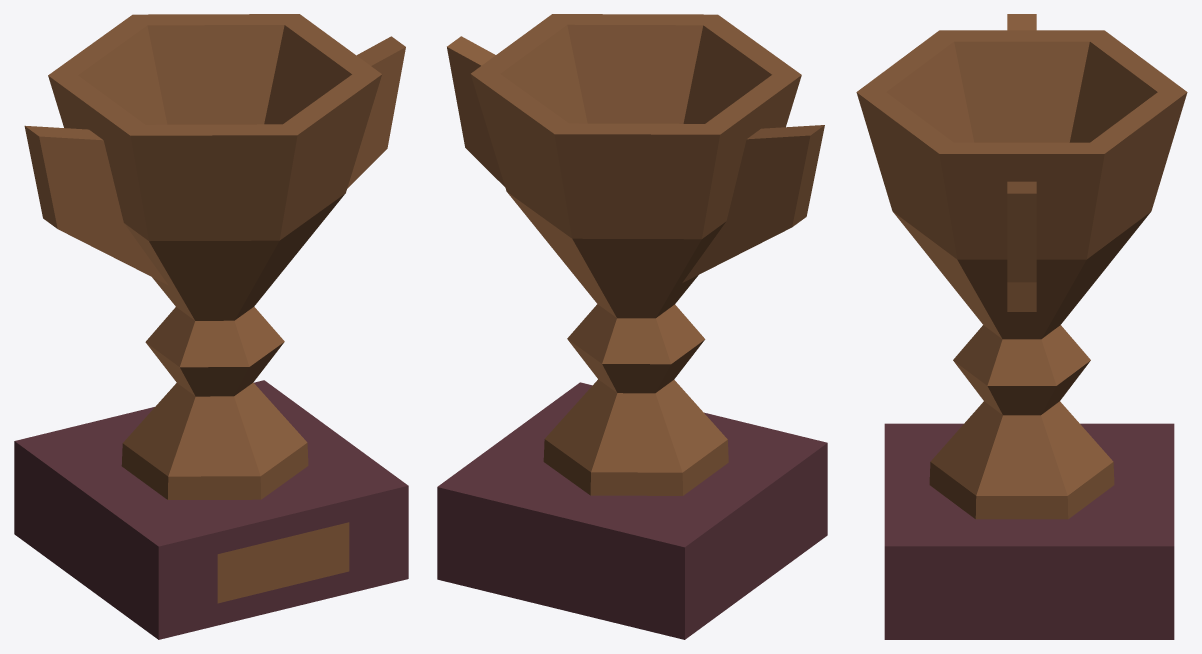
Rendered from furniture-trophy-bronze.glb.
3 renders of one model, left to right at view 1: azimuth 30°, elevation 25°; view 2: azimuth 150°, elevation 25°; view 3: azimuth 270°, elevation 25°, orthographic.
Visible parts, largest first — view 1: trophy-bronze; view 2: trophy-bronze; view 3: trophy-bronze.
Boxes of the visible parts, left/top/right/bottom form: trophy-bronze: left=14, top=14, right=408, bottom=639; trophy-bronze: left=437, top=14, right=827, bottom=639; trophy-bronze: left=856, top=14, right=1187, bottom=639.
Size of the model in its own units: 0.1028 by 0.1298 by 0.08.
